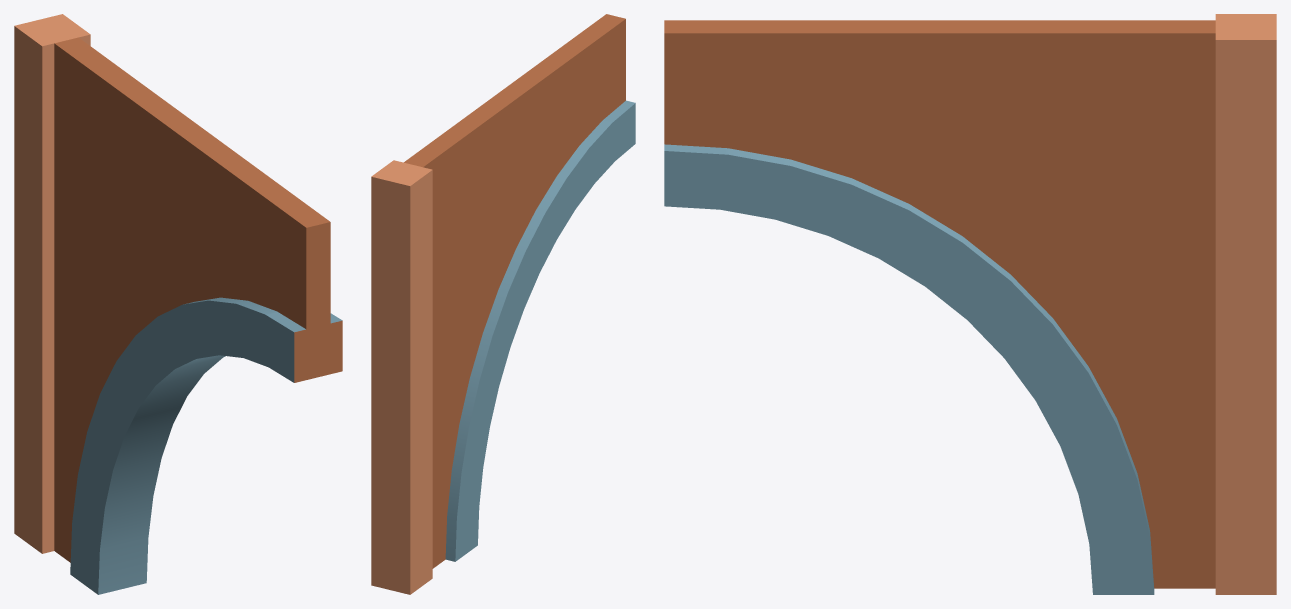
The model's file is wallWoodArchTop.glb.
The picture shows the model from 3 angles, left to right: view 1: azimuth 30°, elevation 25°; view 2: azimuth 150°, elevation 25°; view 3: azimuth 270°, elevation 25°; orthographic projection. The views are drawn at different scales.
Parts seen in each view (by area): view 1: wallWoodArchTop; view 2: wallWoodArchTop; view 3: wallWoodArchTop.
Boxes of the visible parts, <box> form: wallWoodArchTop: <box>14,14,342,594</box>; wallWoodArchTop: <box>371,14,635,594</box>; wallWoodArchTop: <box>664,14,1276,594</box>.
Size of the model in its own units: 0.1 by 1 by 1.
